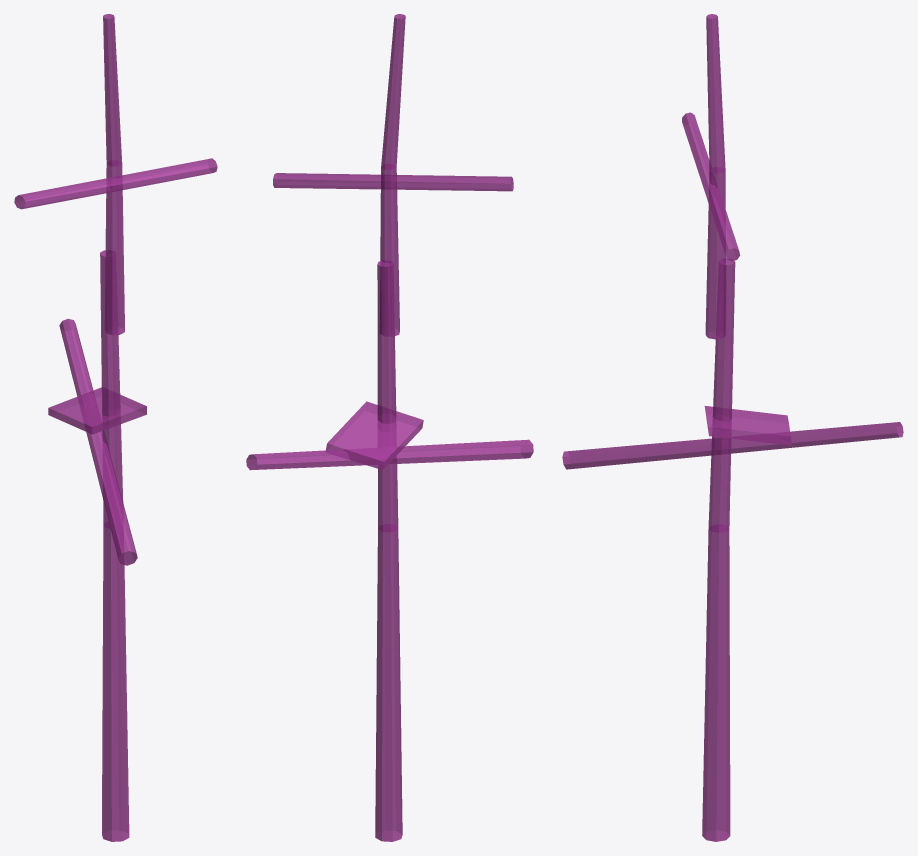
File: SM_Prop_Wreck_Mast_Large_01_Collision.fbx
The picture shows the model from 3 angles, left to right: view 1: azimuth 30°, elevation 25°; view 2: azimuth 150°, elevation 25°; view 3: azimuth 270°, elevation 25°; orthographic projection.
Parts seen in each view (by area): view 1: SM_Prop_Wreck_Mast_Large_01_Collision; view 2: SM_Prop_Wreck_Mast_Large_01_Collision; view 3: SM_Prop_Wreck_Mast_Large_01_Collision.
Boxes of the visible parts, left/top/right/bottom form: SM_Prop_Wreck_Mast_Large_01_Collision: left=14, top=14, right=217, bottom=841; SM_Prop_Wreck_Mast_Large_01_Collision: left=246, top=14, right=533, bottom=841; SM_Prop_Wreck_Mast_Large_01_Collision: left=562, top=14, right=903, bottom=841.
Size of the model in its own units: 987 by 3547 by 1346.
